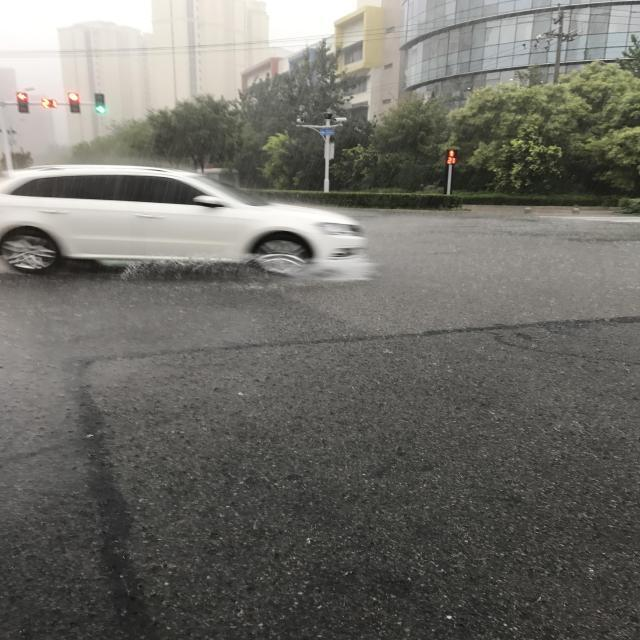car: (164, 271, 276, 640)
